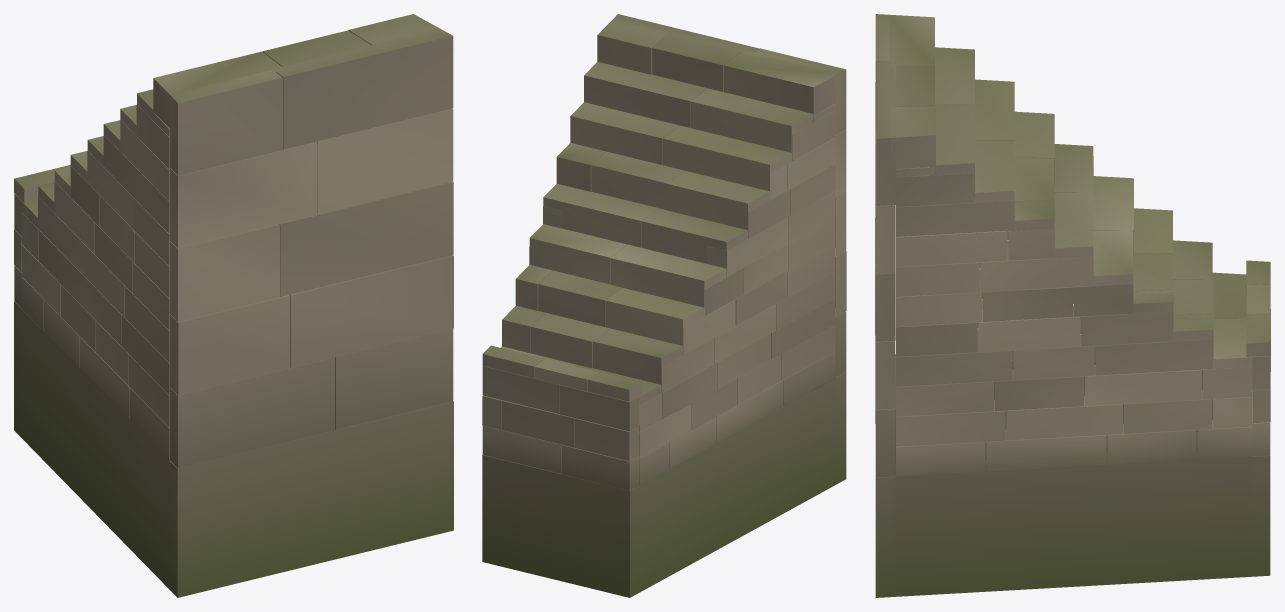
File: arena_seats_b_mid.glb
3 renders of one model, left to right at view 1: azimuth 30°, elevation 25°; view 2: azimuth 150°, elevation 25°; view 3: azimuth 270°, elevation 25°, orthographic. The views are drawn at different scales.
Visible parts, largest first — view 1: arena_seats_b_mid; view 2: arena_seats_b_mid; view 3: arena_seats_b_mid.
Part boxes in pixels (x1,y1,x2,y2): arena_seats_b_mid: (14,14,453,597); arena_seats_b_mid: (482,14,846,597); arena_seats_b_mid: (875,14,1270,597).
Bounding box in the file's own units: 13.43 × 22.99 × 17.96.
